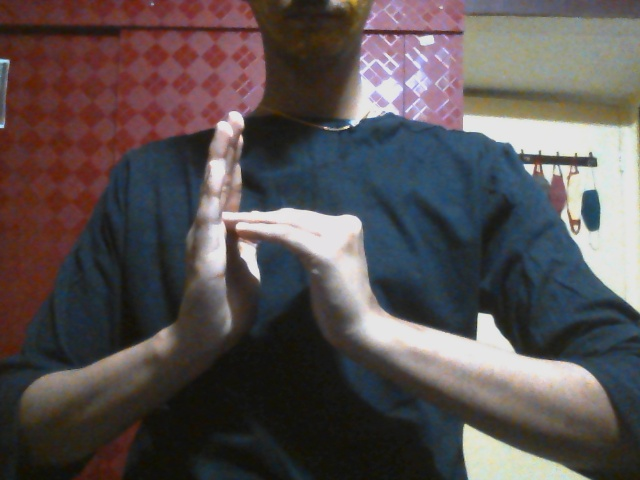Z: (156, 110, 392, 381)
